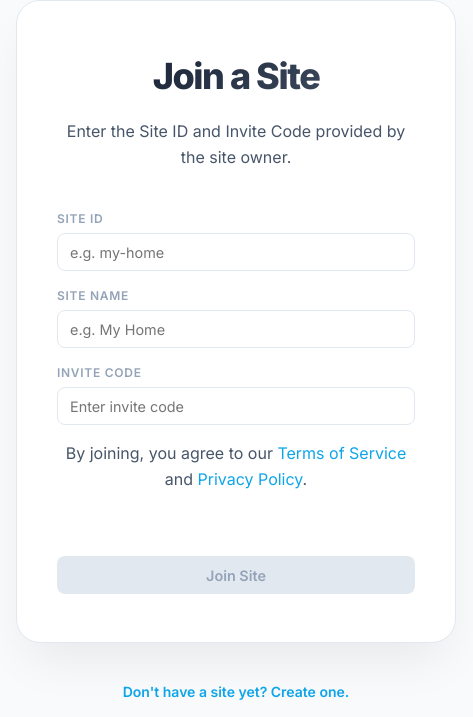
Test: JoinSitePage Component › enables submit when all fields are filled
The width and height of the screenshot is (473, 717).
Type "my-site" into the field labelled "Site ID" at [236, 252], box 57,233 -> 415,271
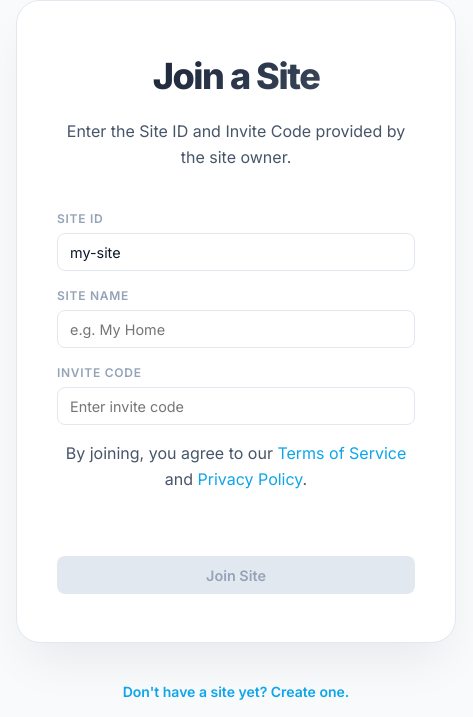
Type "My Home" into the field labelled "Site Name" at [236, 329], box 57,310 -> 415,348
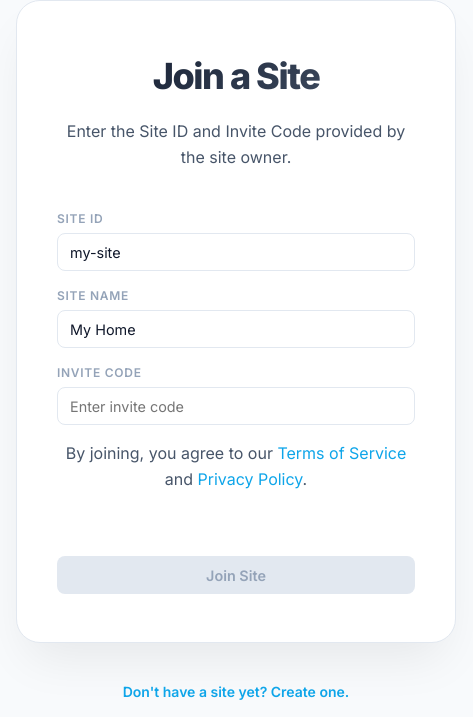
Type "secret" into the field labelled "Invite Code" at [236, 406], box 57,387 -> 415,425
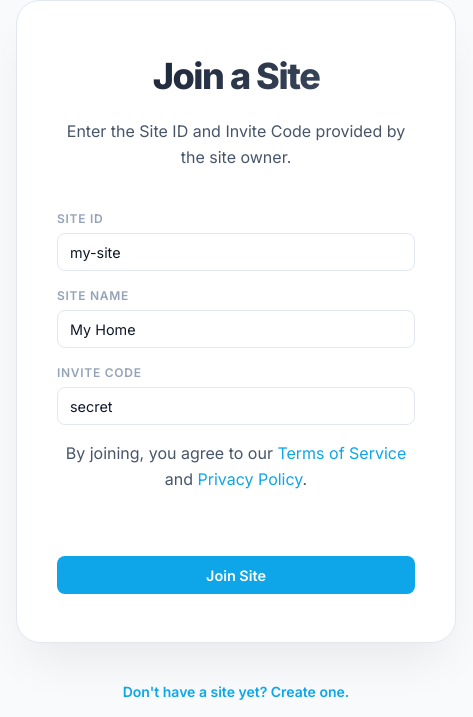
expect the button "Join Site" is enabled: met, box 57,556 -> 415,594
